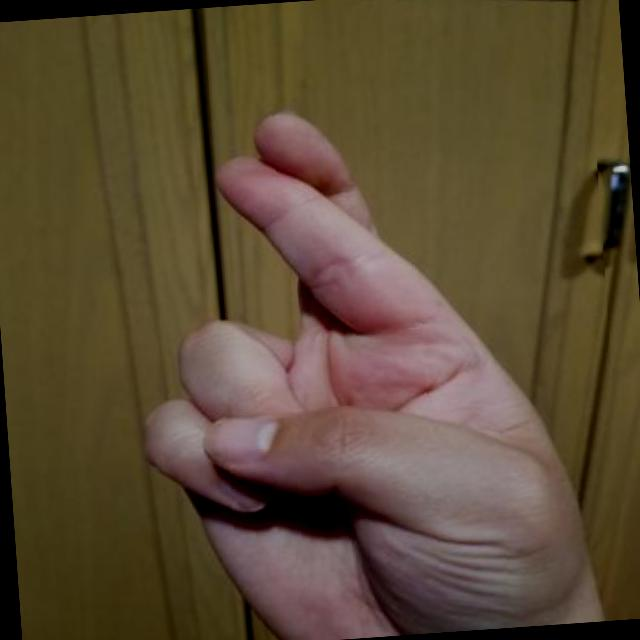R: (102, 80, 628, 640)
